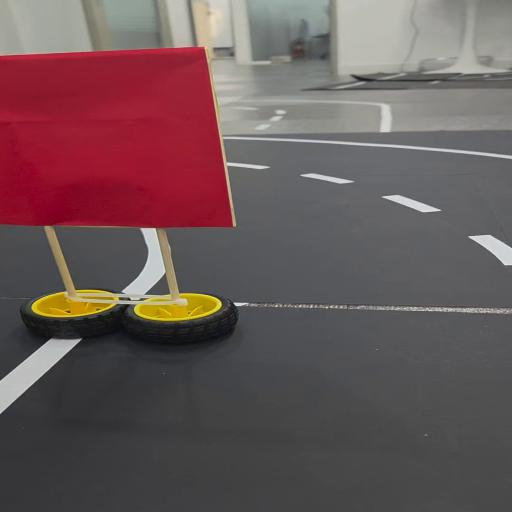Sign_A: (5, 52, 243, 345)
